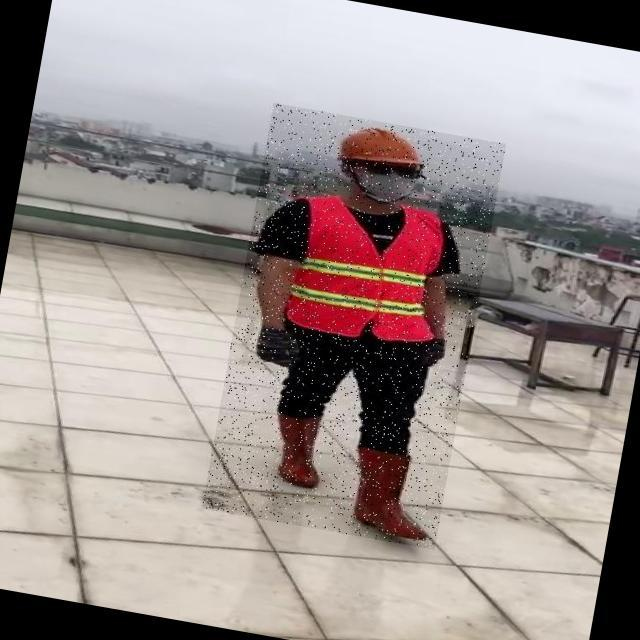Gloves: (256, 326, 300, 367), (424, 334, 449, 368)
Helmet: (335, 118, 426, 173)
Human: (202, 103, 506, 550)
Safety Boot: (344, 444, 440, 541), (262, 409, 332, 490)
Safety Vest: (275, 190, 450, 349)
